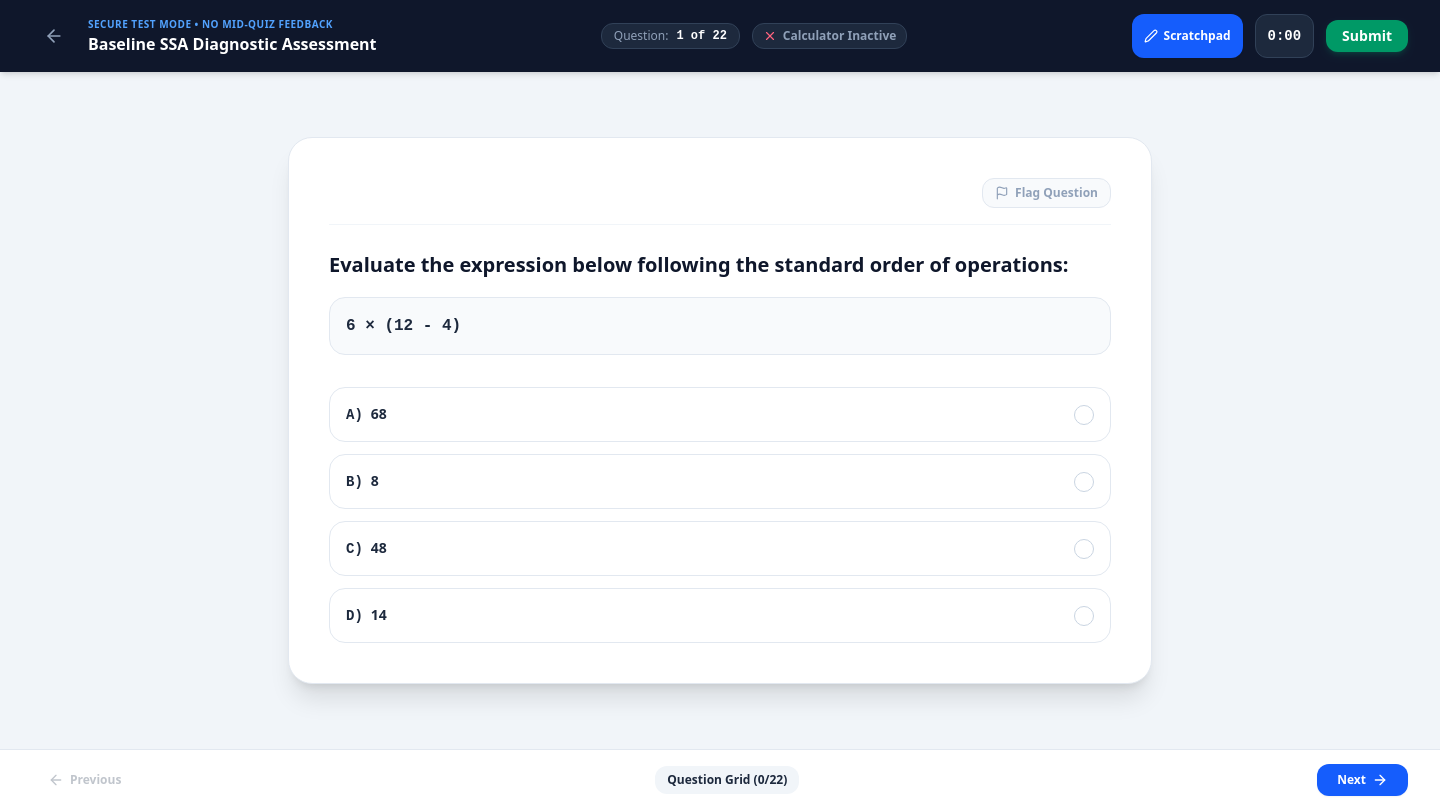
Test: QuizRunner accessibility and saving (logic-flows Medium, Low) › the question navigator is a dialog that Escape closes
The width and height of the screenshot is (1440, 810).
Click the button "Question Grid (0/22)". click: {"x": 727, "y": 780}
box: [655,766,799,794]
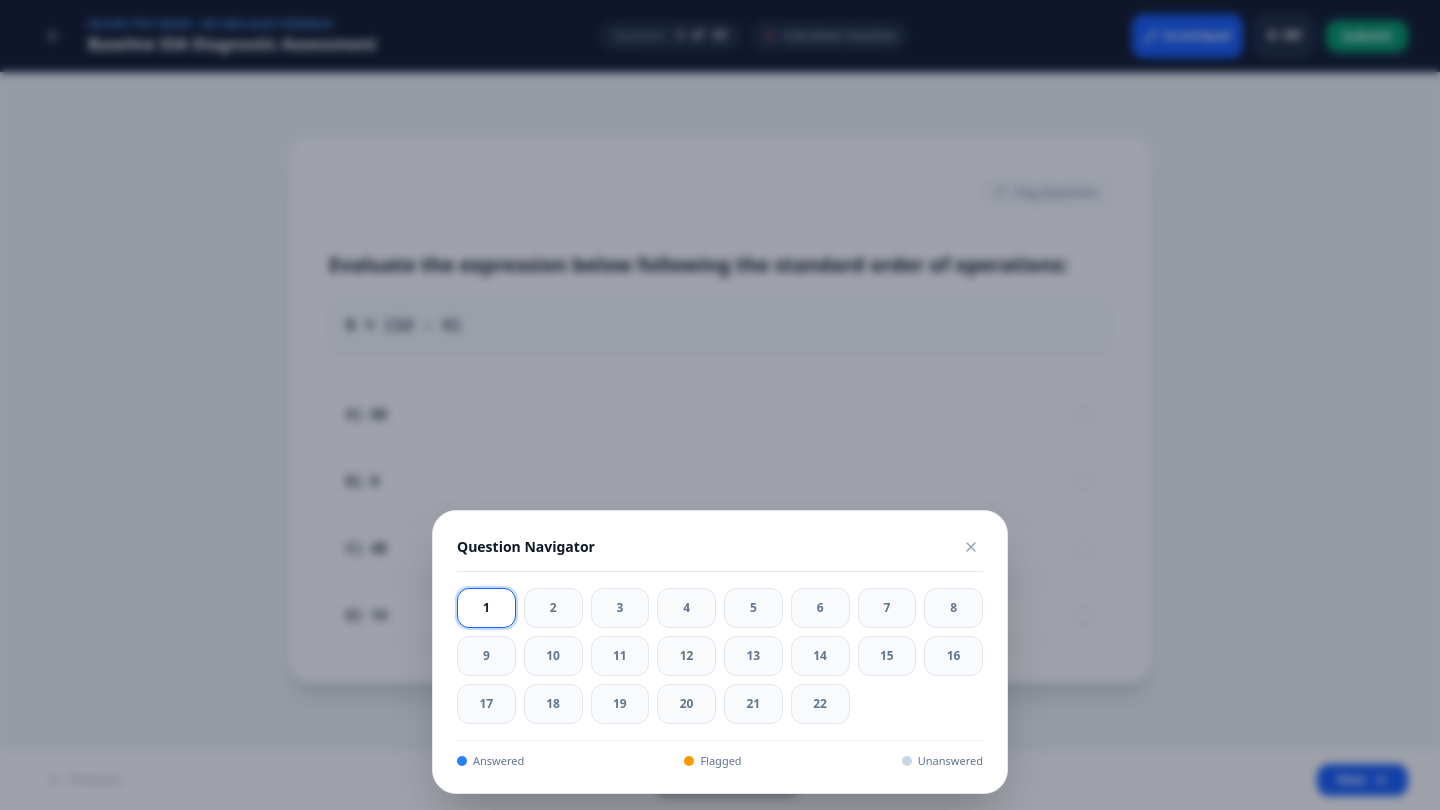
Expected: the dialog "Question Navigator" is shown, [432,510,1008,794]
Press Escape
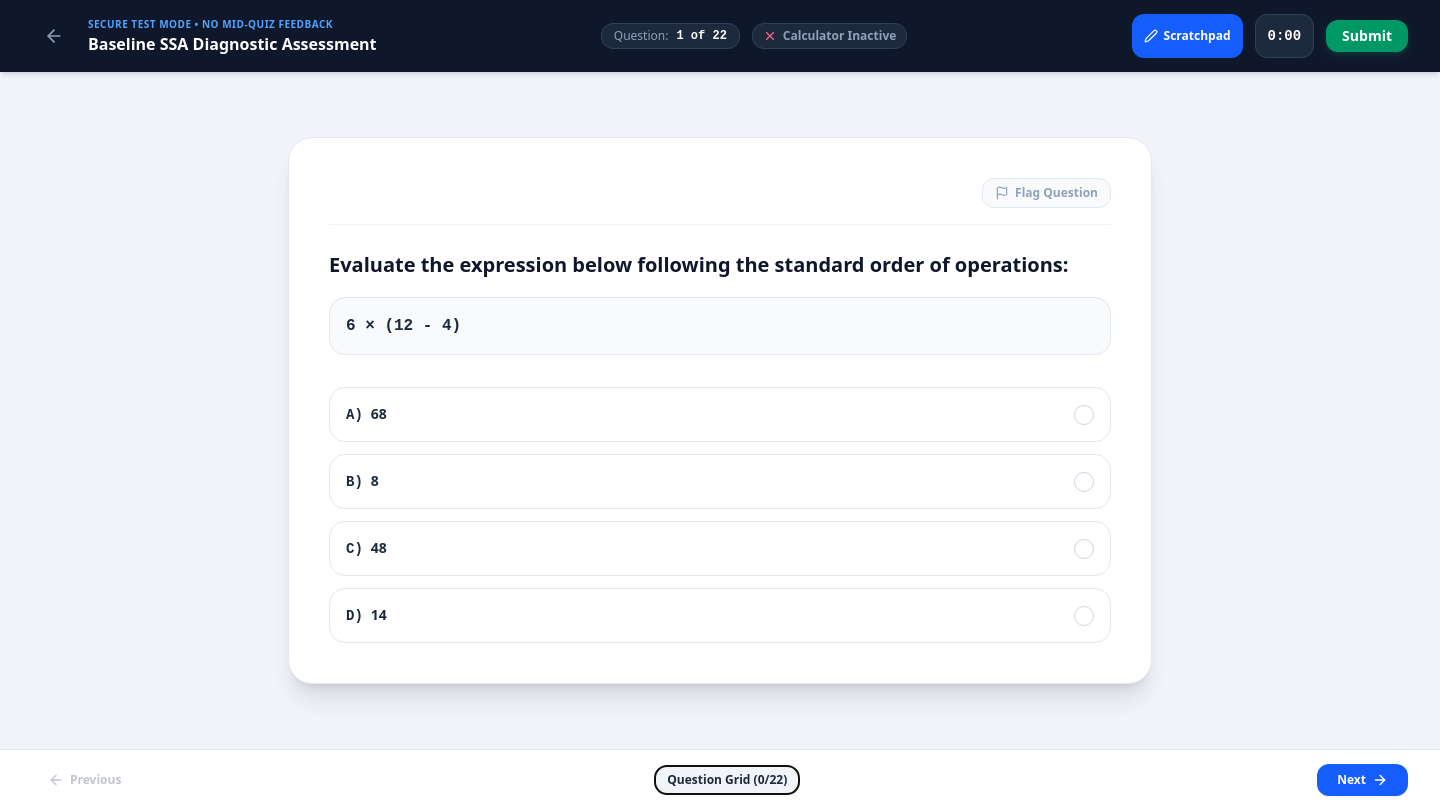
Expected: the heading "Question Navigator" is gone
